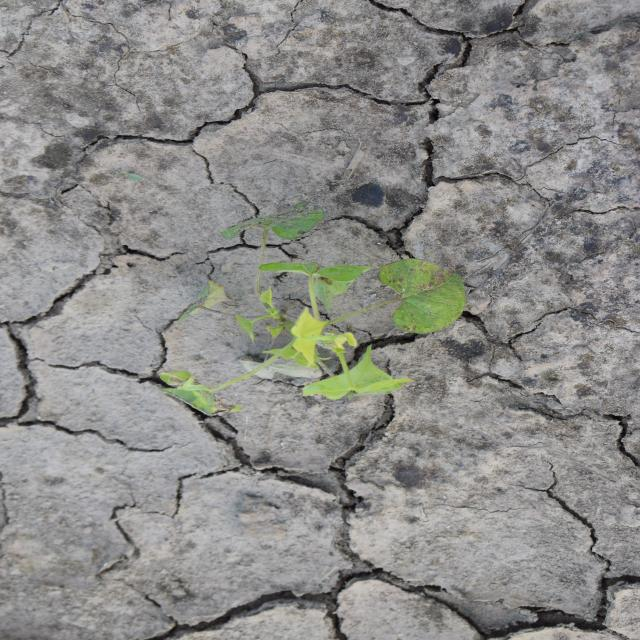MorningGlory: (154, 196, 468, 418)
